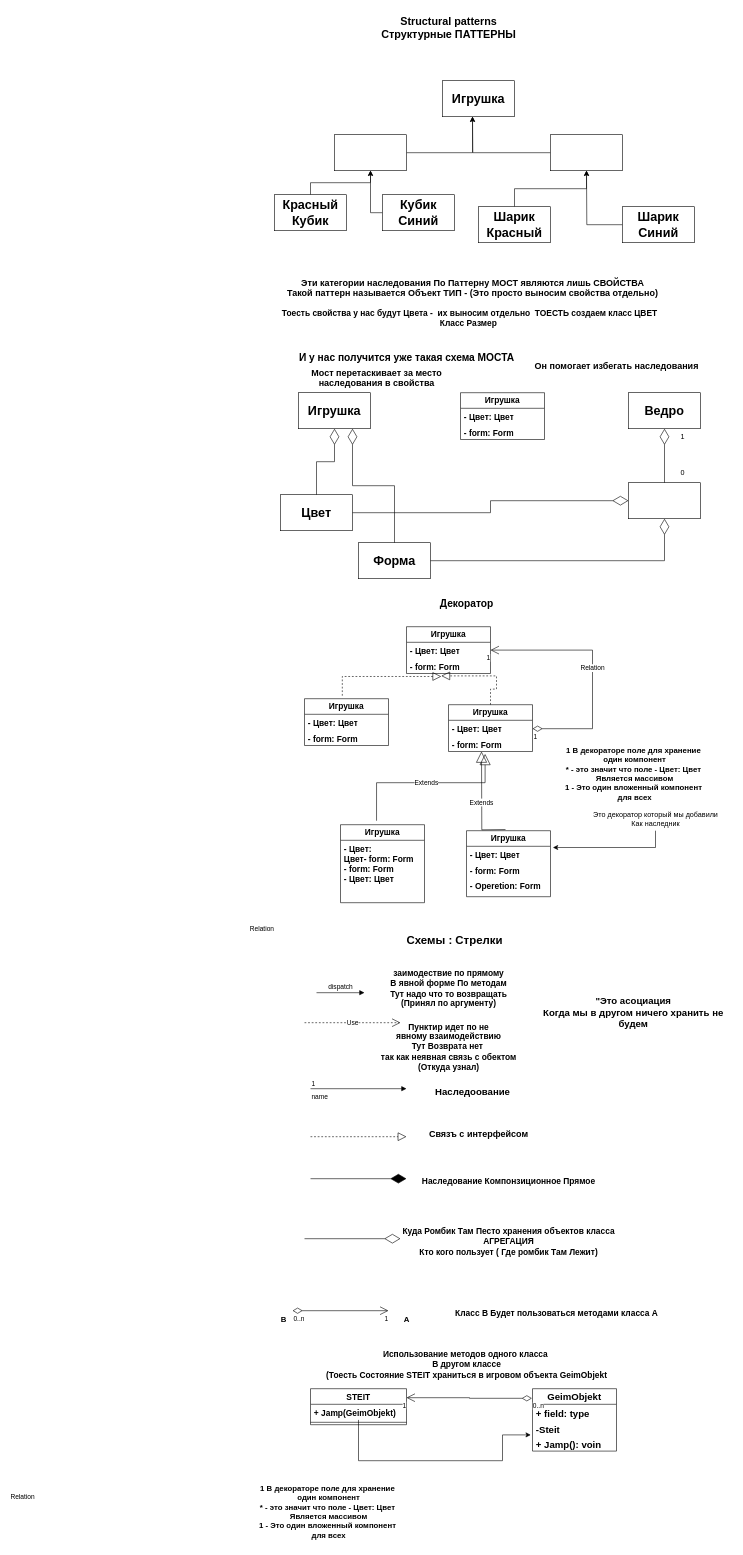
This 743x1555 diagram has some shape labels left out. The shapes that lost their labels are listed below. From the top down, each one's centre as x and y in pixels, then its label:
(x=370, y=152): Кубик
(x=586, y=152): Шарик
(x=664, y=500): Отверстие
